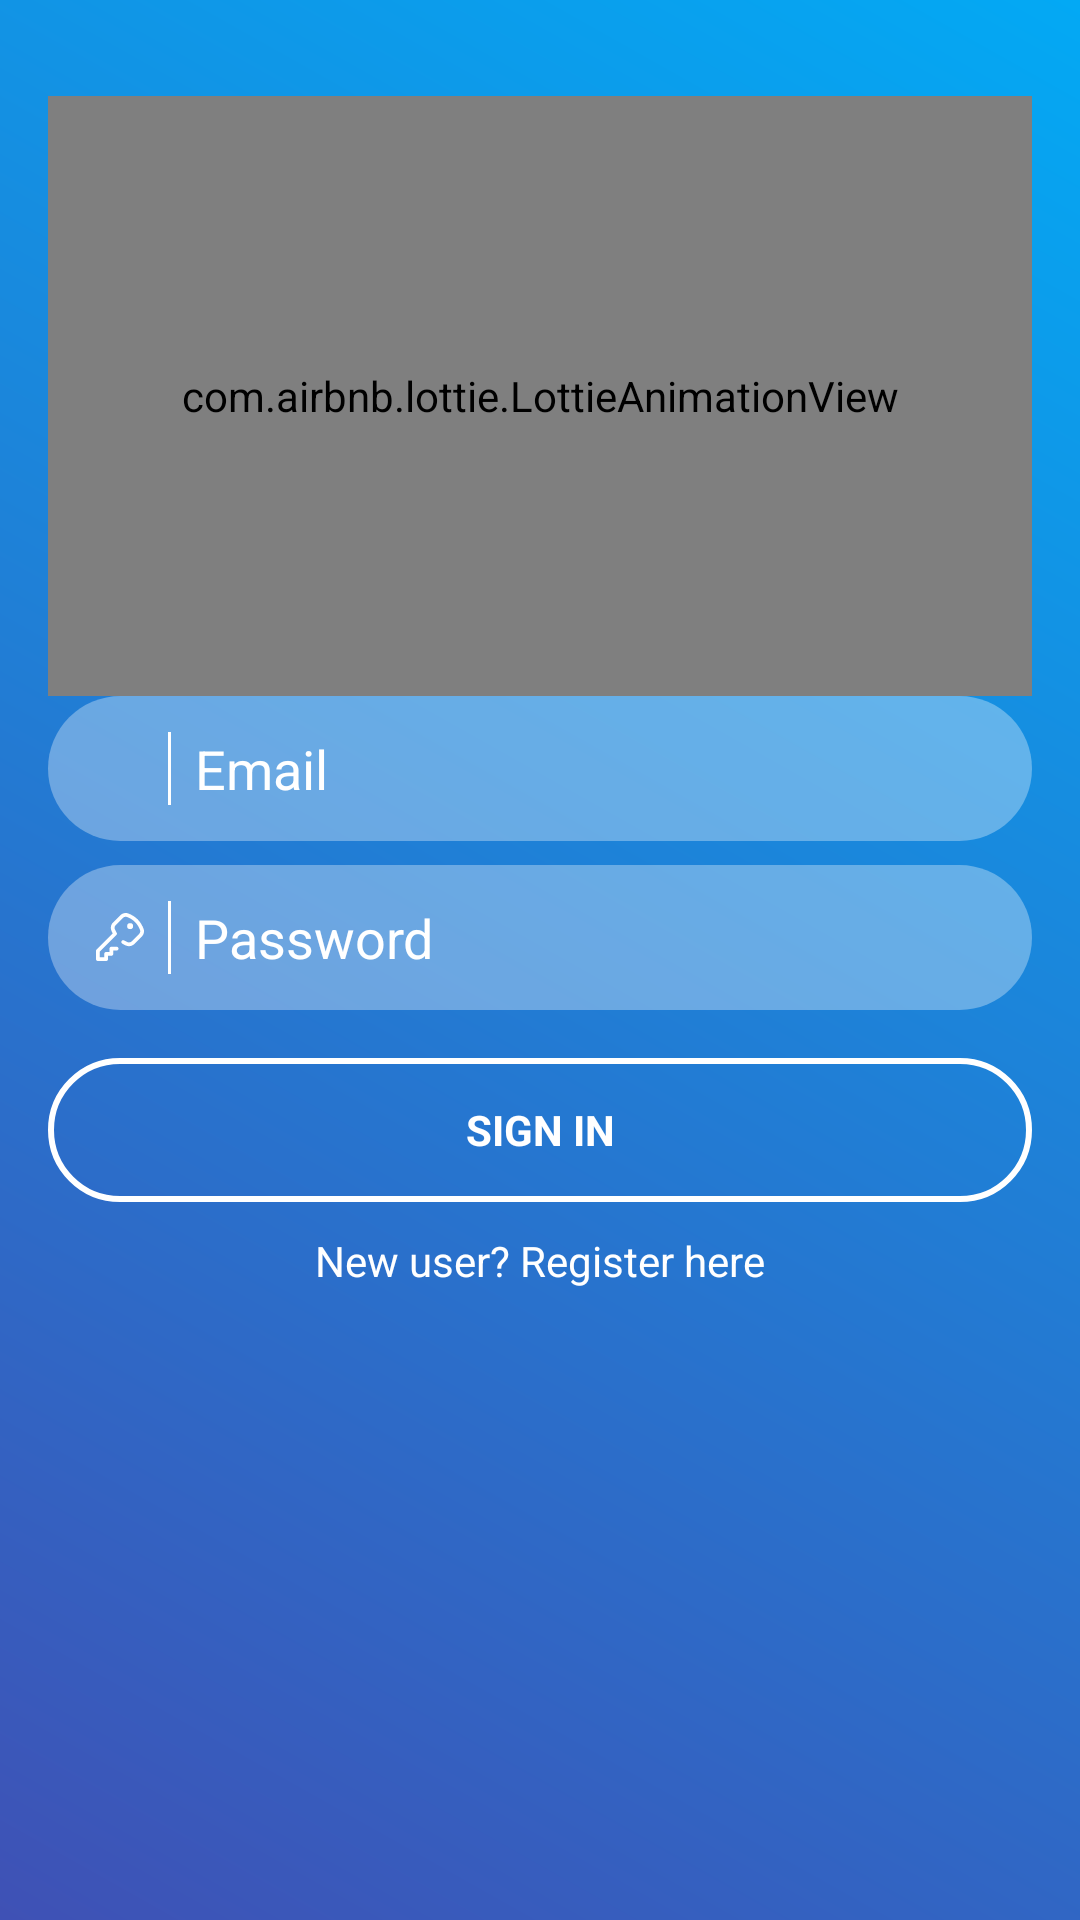

Icon bounding boxes for this 1080 x 1920 phone screenshot, format box=[x1, y1, x2, y2]:
key: box=[96, 913, 144, 961]
